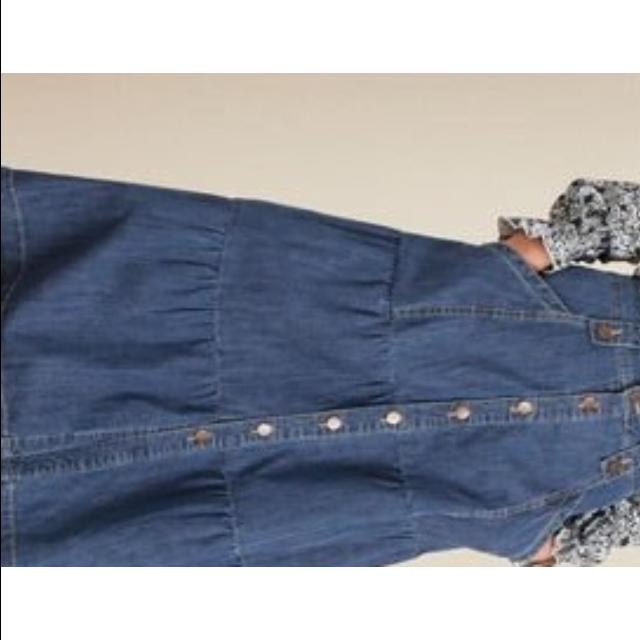denim: (0, 165, 640, 567)
